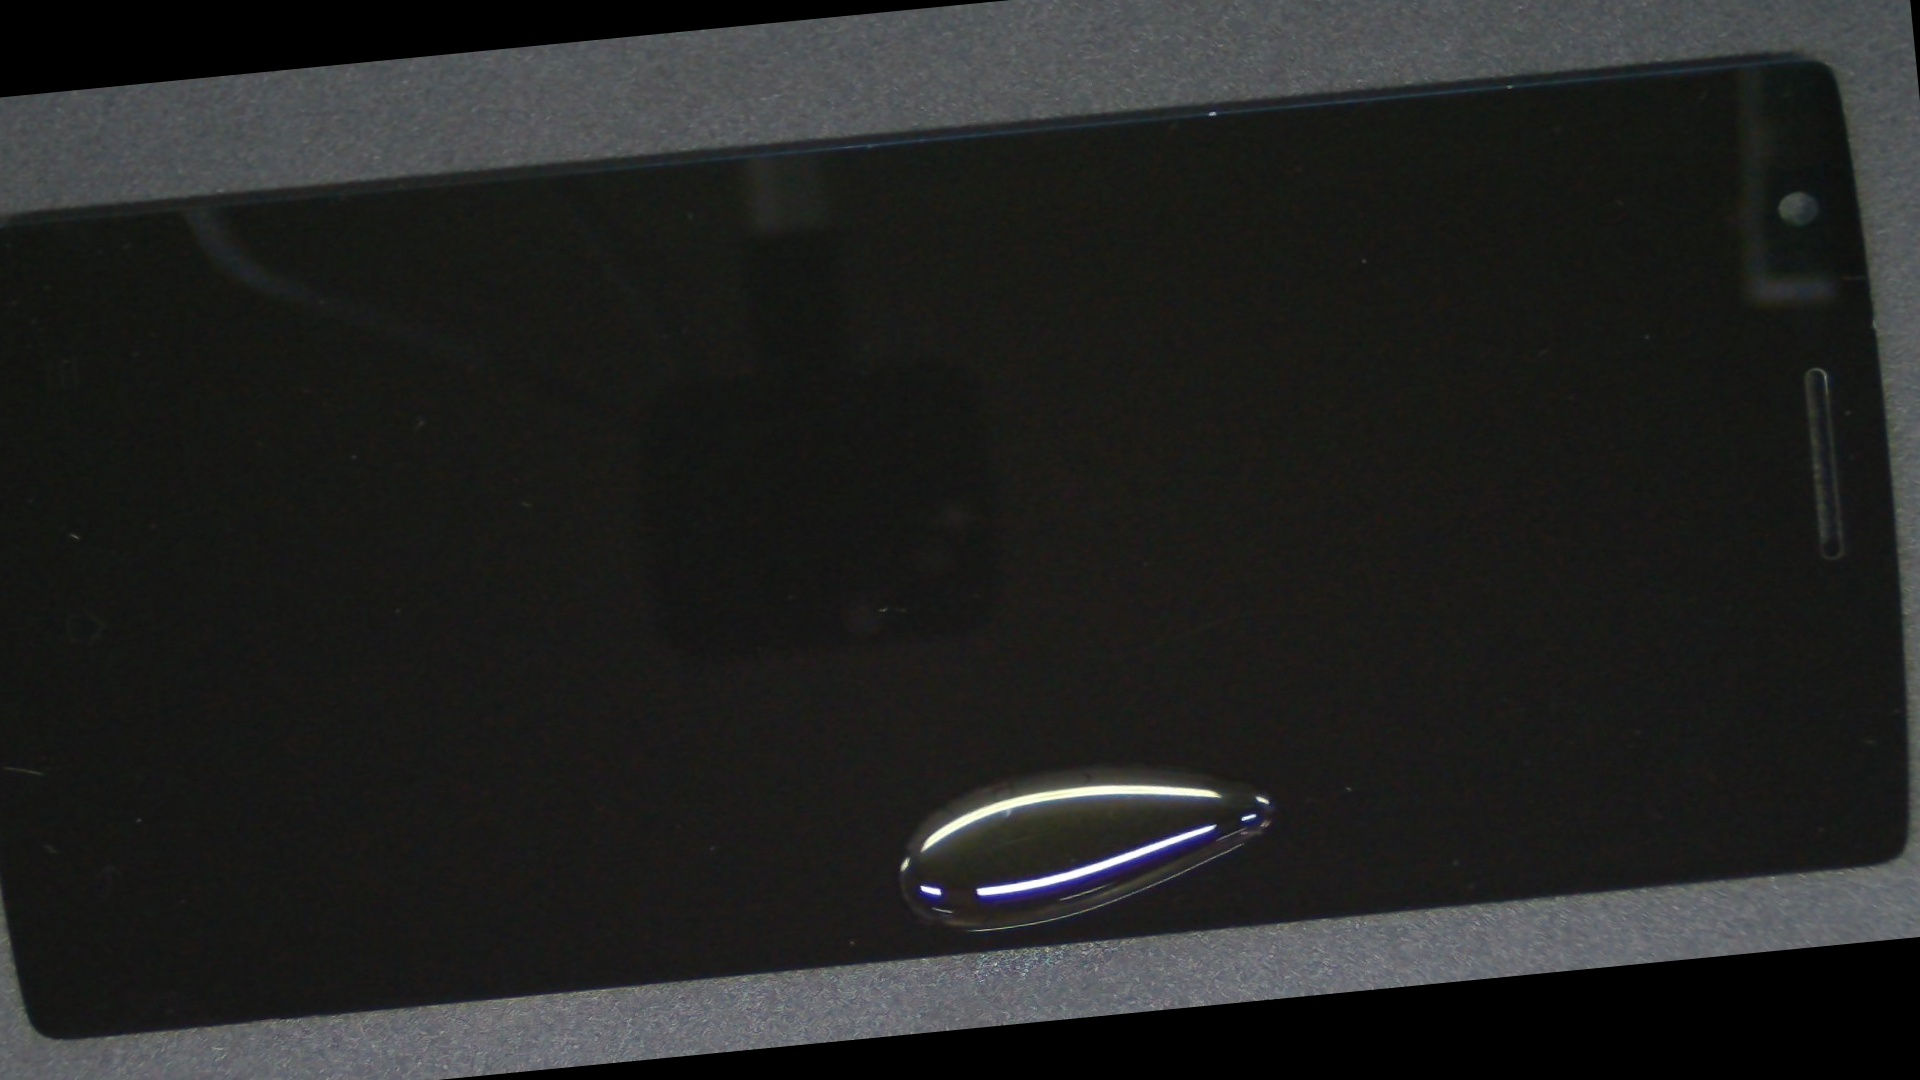oil: (431, 323, 1717, 1075)
